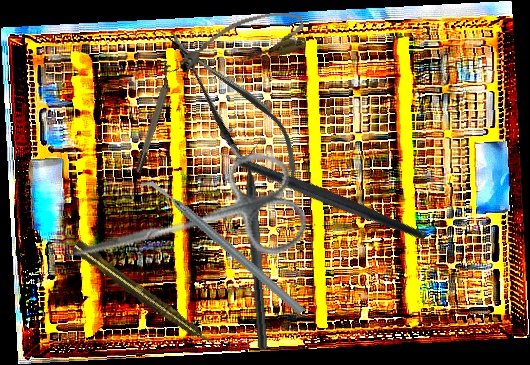Cannula: (173, 5, 310, 80)
Chopper: (190, 80, 429, 310), (136, 142, 308, 353), (239, 136, 283, 351)
Fixation Ring: (129, 63, 179, 174)
Handpiece: (70, 238, 218, 351)
Iris Scissors: (55, 144, 314, 310)
Micro Scissor: (148, 12, 319, 203)
